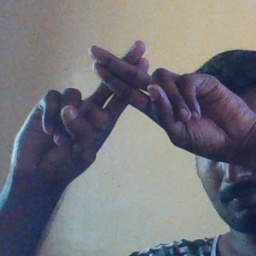F: (57, 37, 205, 150)
